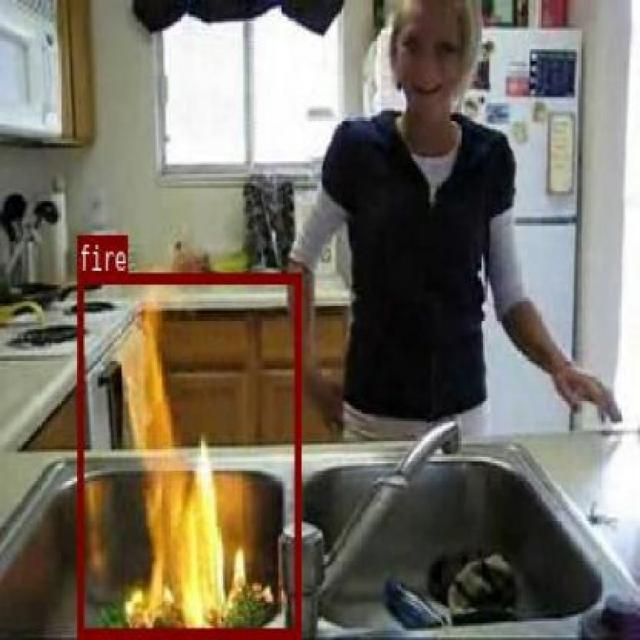Fire: (87, 280, 274, 640)
